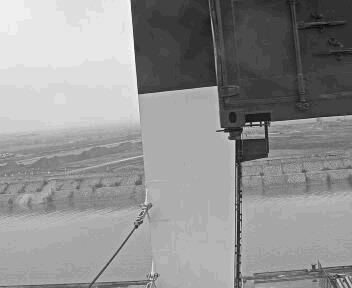twist_lock_1: (113, 193, 222, 265)
